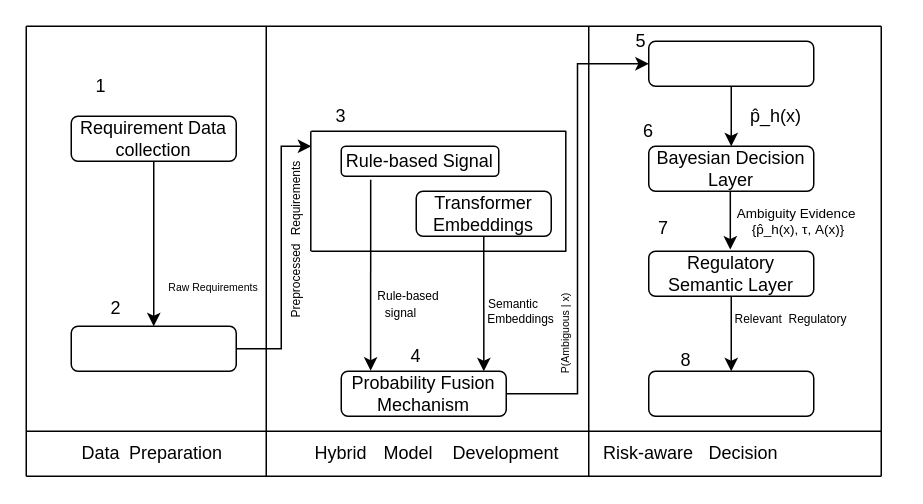
Some shapes in this 923 by 504 pixel diagram are drawn without their labels. The centre of each missing label's shape, as x and y in pixels:
"Calibration Layer" goes at [730,63].
"Compliance-Aligned Recommendation" goes at [730,393].
"Data preprocessing" goes at [153,348].
